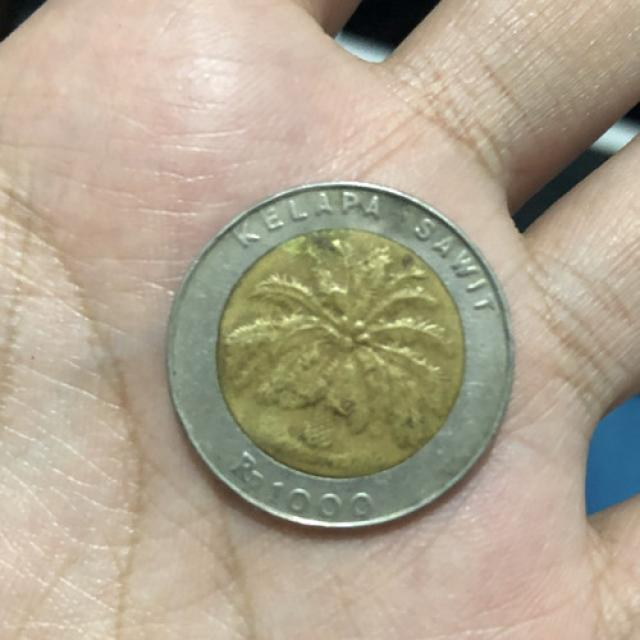1000-sawit: (149, 173, 533, 549)
